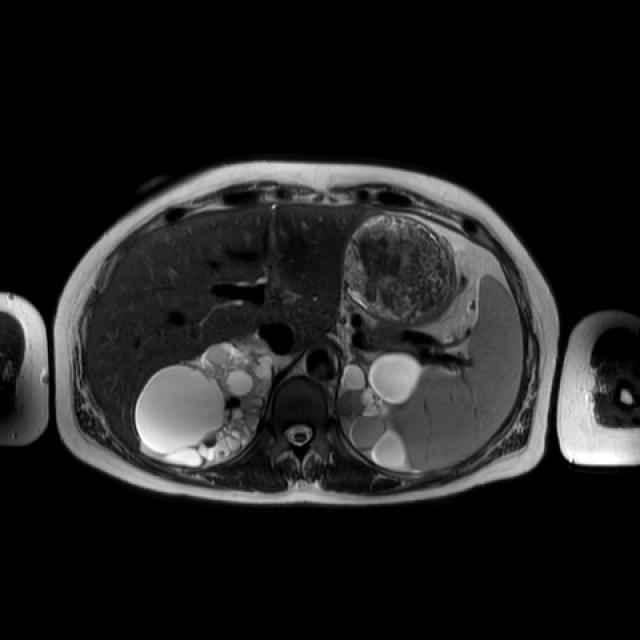sag: (137, 340, 273, 467)
sol: (340, 354, 419, 468)
